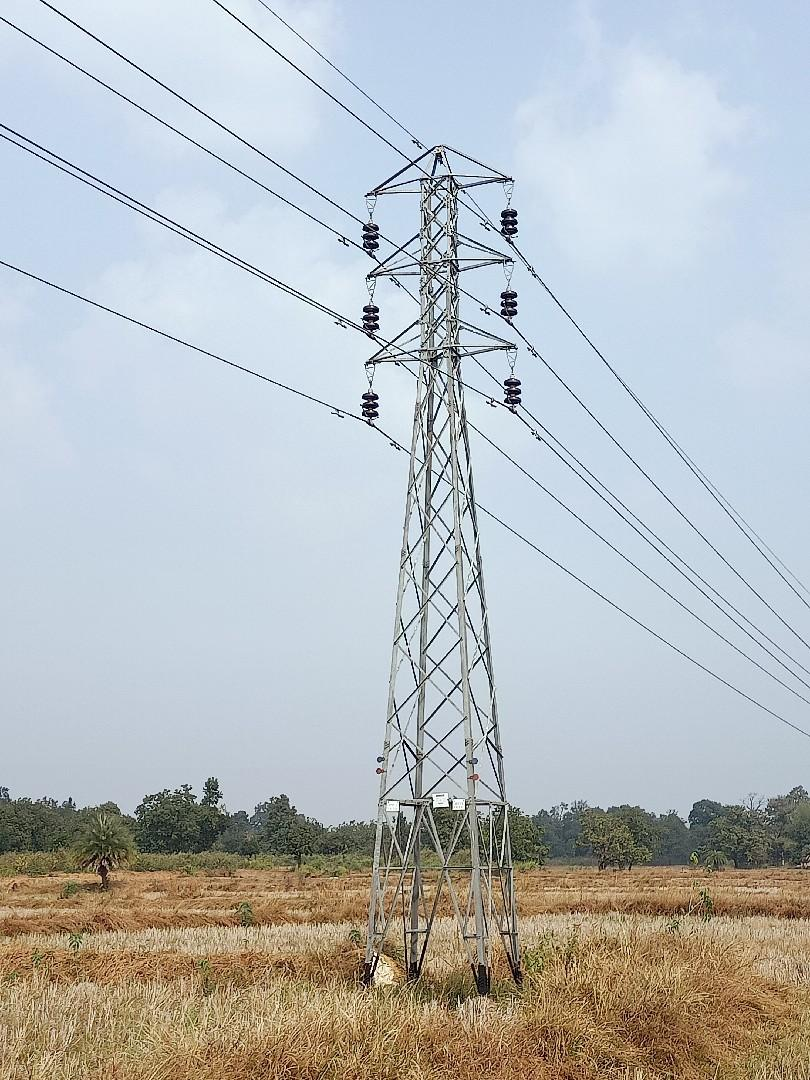GSM Antenna: (358, 138, 525, 932)
